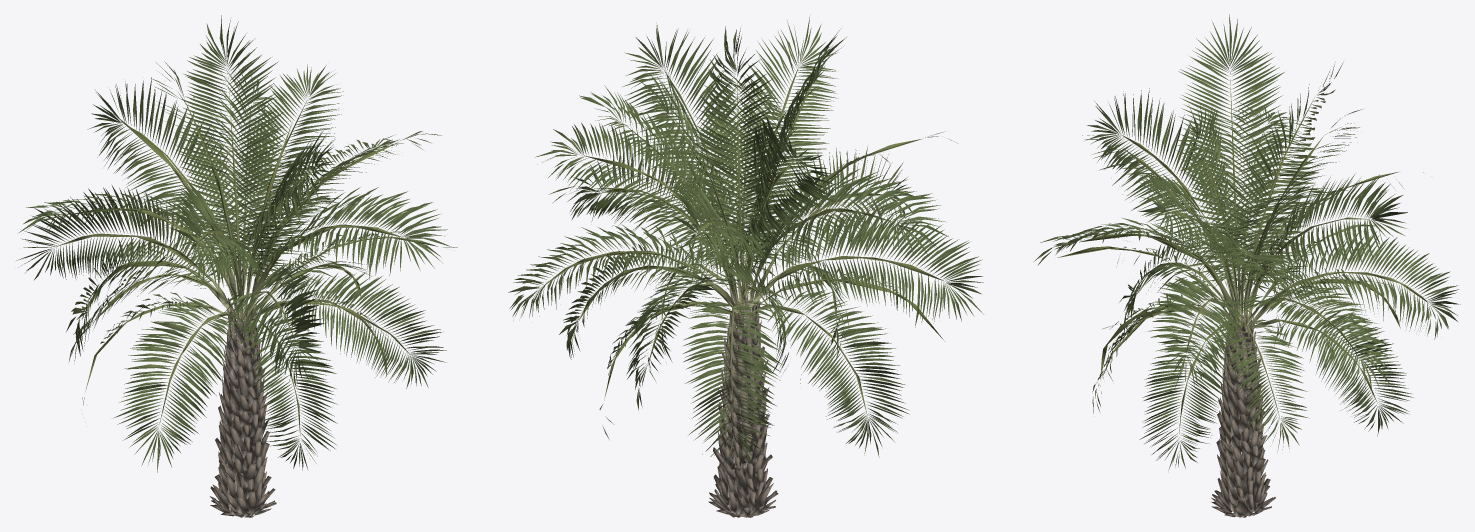
Rendered from tree-butia-palm.glb.
3 views of the same model, side by side, from view 1: azimuth 30°, elevation 25°; view 2: azimuth 150°, elevation 25°; view 3: azimuth 270°, elevation 25° (orthographic). The views are drawn at different scales.
Parts seen in each view (by area): view 1: tree-butia-palm; view 2: tree-butia-palm; view 3: tree-butia-palm.
Part boxes in pixels (left/top/right/bottom): tree-butia-palm: left=16, top=15, right=457, bottom=517; tree-butia-palm: left=508, top=17, right=983, bottom=517; tree-butia-palm: left=1034, top=14, right=1460, bottom=517.
Bounding box in the file's own units: 4.68 × 5.2 × 4.61.
Materials: 2 (2 with a texture image).
